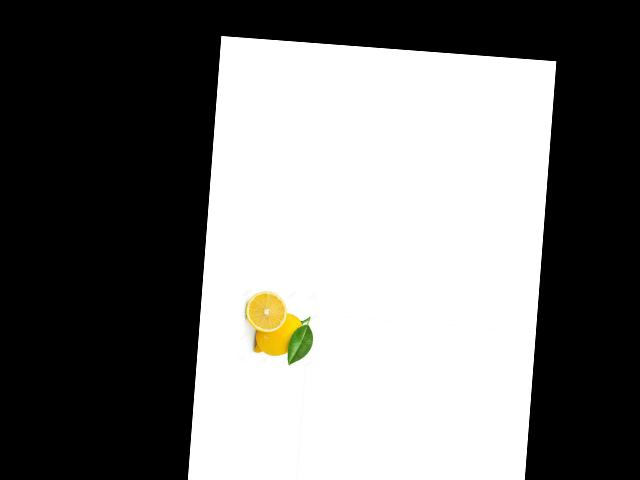lemon: (251, 308, 310, 360)
